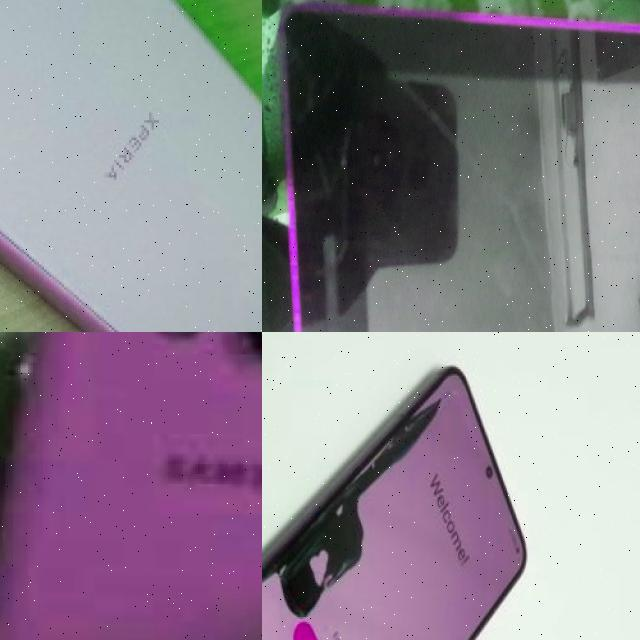dead pixel: (262, 361, 455, 638)
screen crack: (292, 14, 546, 316)
